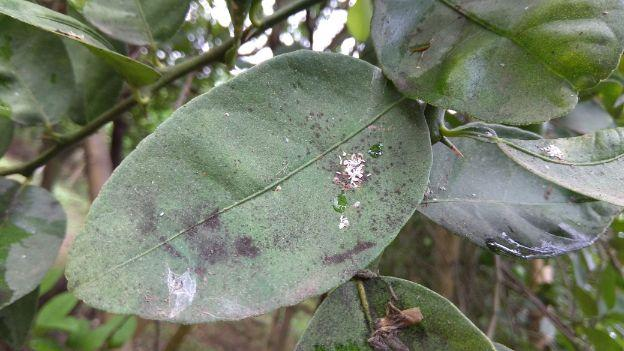Myzus persicae: (333, 152, 368, 191), (540, 144, 563, 158)
